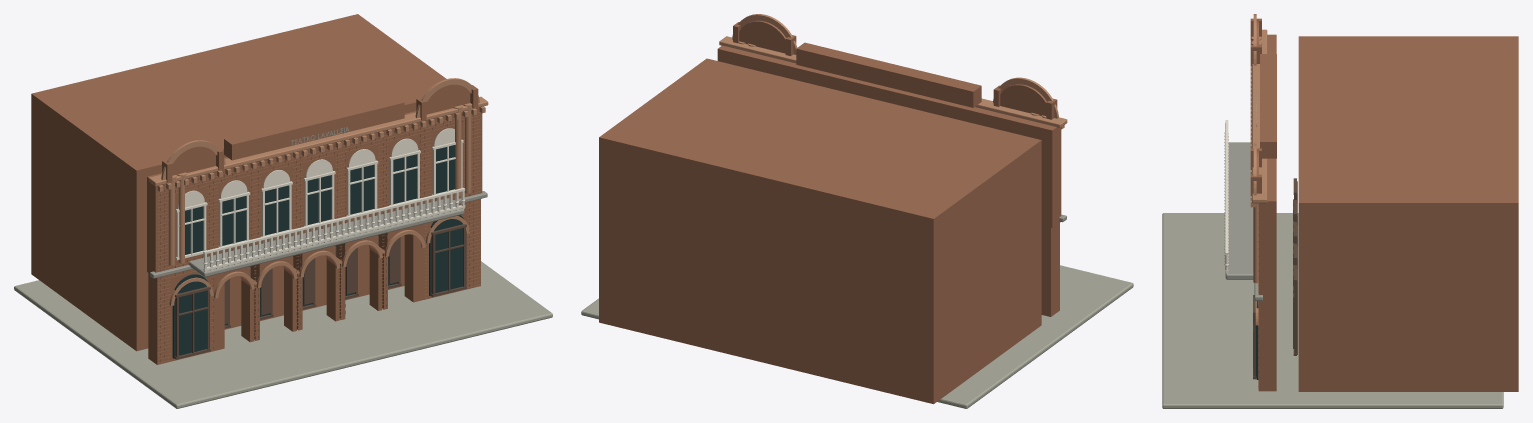
The model's file is gms-45.glb.
3 views of the same model, side by side, from view 1: azimuth 30°, elevation 25°; view 2: azimuth 150°, elevation 25°; view 3: azimuth 270°, elevation 25° (orthographic). The views are drawn at different scales.
Visible parts, largest first — view 1: Long theatre auditorium, Context plinth, First-floor French windows jamb, Closed lateral arched bay, Brick arch casing, Mortar horizontal joint, Closed lateral door frame jamb, Masonry stringcourse; view 2: Long theatre auditorium, Context plinth, Brick arch casing; view 3: Long theatre auditorium, Context plinth, Masonry stringcourse, Brick arch casing, Closed lateral door frame jamb, First-floor French windows jamb, Closed lateral arched bay.
Part boxes in pixels (x1=…): Long theatre auditorium: x1=31, y1=14, x2=482, y2=364; Context plinth: x1=14, y1=261, x2=552, y2=408; First-floor French windows jamb: x1=175, y1=128, x2=465, y2=272; Closed lateral arched bay: x1=172, y1=145, x2=466, y2=358; Brick arch casing: x1=148, y1=78, x2=488, y2=305; Mortar horizontal joint: x1=157, y1=110, x2=480, y2=363; Closed lateral door frame jamb: x1=174, y1=224, x2=466, y2=359; Masonry stringcourse: x1=150, y1=127, x2=487, y2=278; Long theatre auditorium: x1=599, y1=20, x2=1061, y2=404; Context plinth: x1=581, y1=265, x2=1133, y2=408; Brick arch casing: x1=719, y1=14, x2=1067, y2=129; Long theatre auditorium: x1=1250, y1=18, x2=1518, y2=391; Context plinth: x1=1162, y1=213, x2=1503, y2=408; Masonry stringcourse: x1=1225, y1=92, x2=1262, y2=300; Brick arch casing: x1=1250, y1=14, x2=1267, y2=325; Closed lateral door frame jamb: x1=1253, y1=178, x2=1296, y2=379; First-floor French windows jamb: x1=1224, y1=120, x2=1228, y2=273; Closed lateral arched bay: x1=1256, y1=181, x2=1297, y2=379.
Size of the model in its own units: 12 by 6.72 by 9.4.
